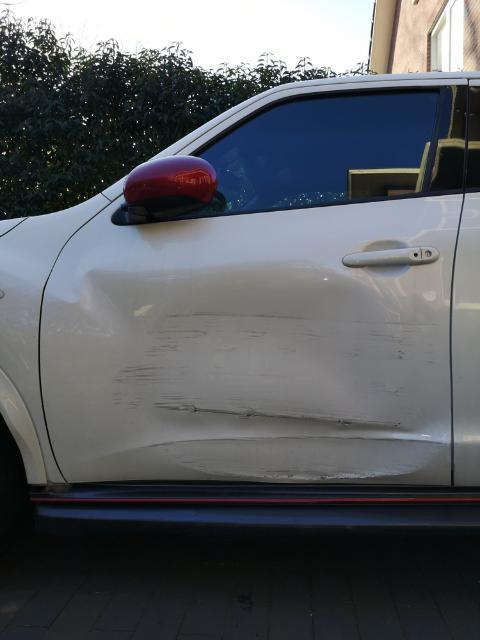dent: (78, 265, 444, 478)
